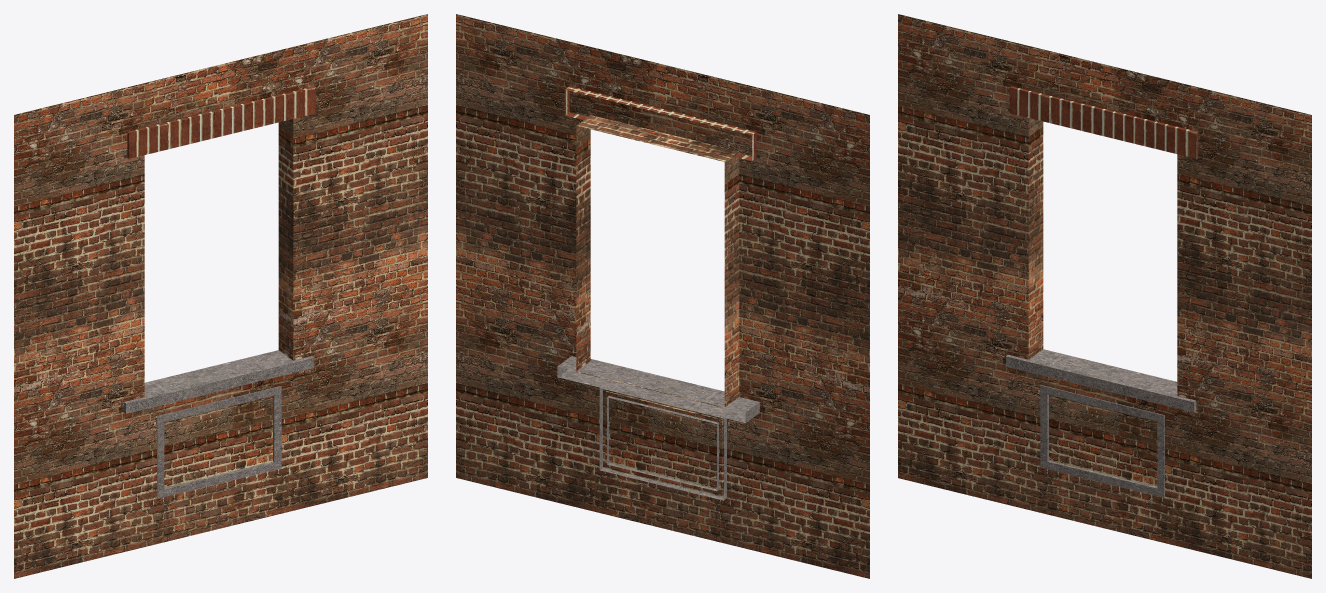
File: BUILDING_singleCorridorWindow_01.FBX
The picture shows the model from 3 angles, left to right: view 1: azimuth 30°, elevation 25°; view 2: azimuth 150°, elevation 25°; view 3: azimuth 330°, elevation 25°; orthographic projection.
Visible parts, largest first — view 1: BUILDING_singleCorridorWindow_01; view 2: BUILDING_singleCorridorWindow_01; view 3: BUILDING_singleCorridorWindow_01.
Part boxes in pixels (x1=…): BUILDING_singleCorridorWindow_01: x1=14, y1=14, x2=427, y2=578; BUILDING_singleCorridorWindow_01: x1=456, y1=14, x2=869, y2=578; BUILDING_singleCorridorWindow_01: x1=898, y1=14, x2=1311, y2=578.
Bounding box in the file's own units: 4.61 × 4.94 × 0.3207.
